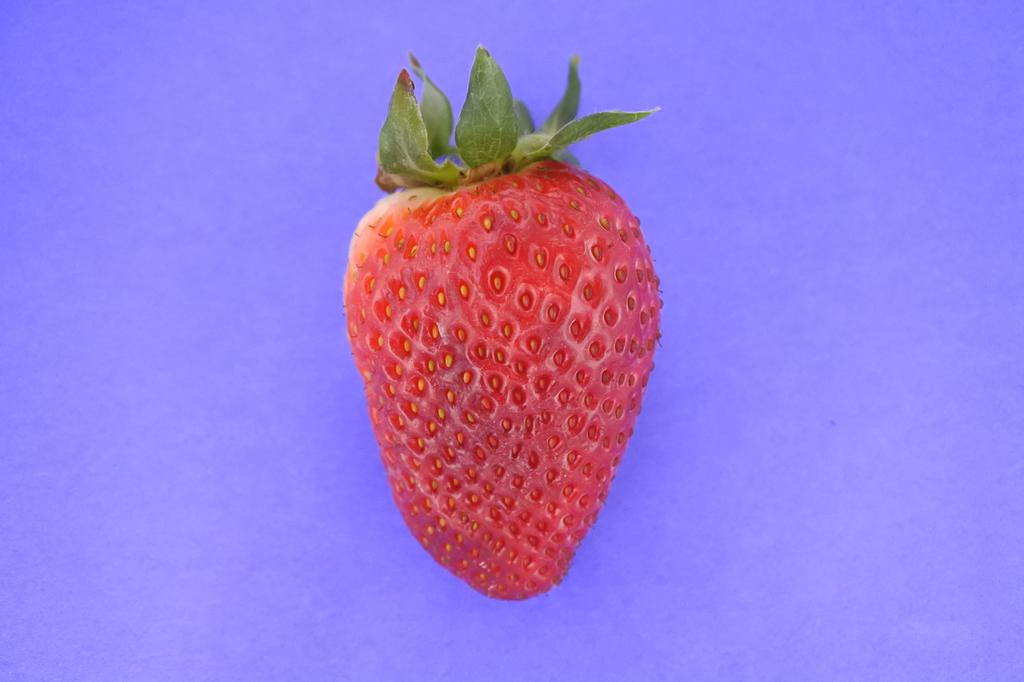red strawberry: (341, 44, 663, 605)
